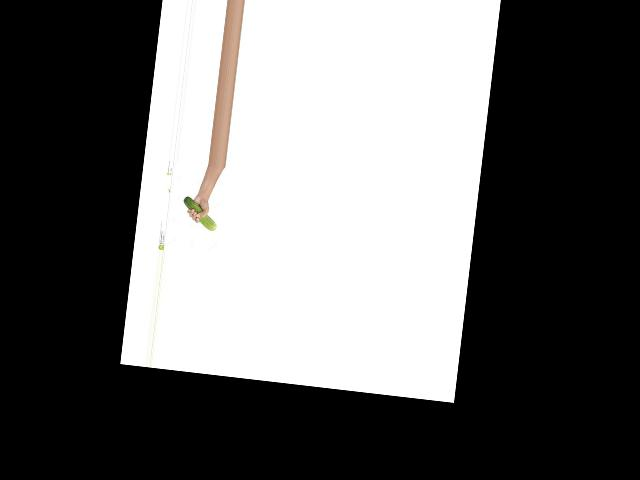cucumber: (180, 195, 219, 230)
